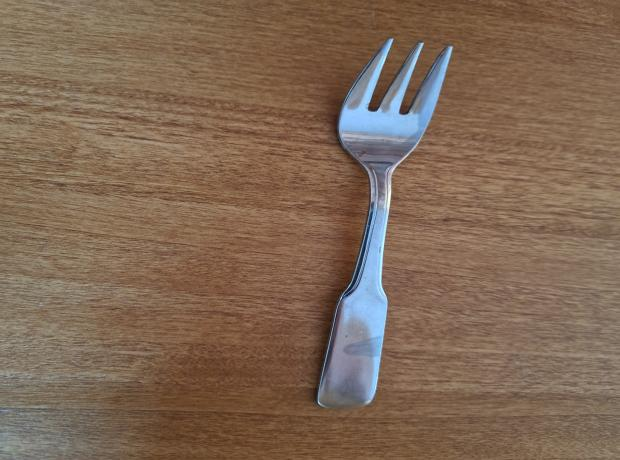metal: (311, 41, 455, 410)
